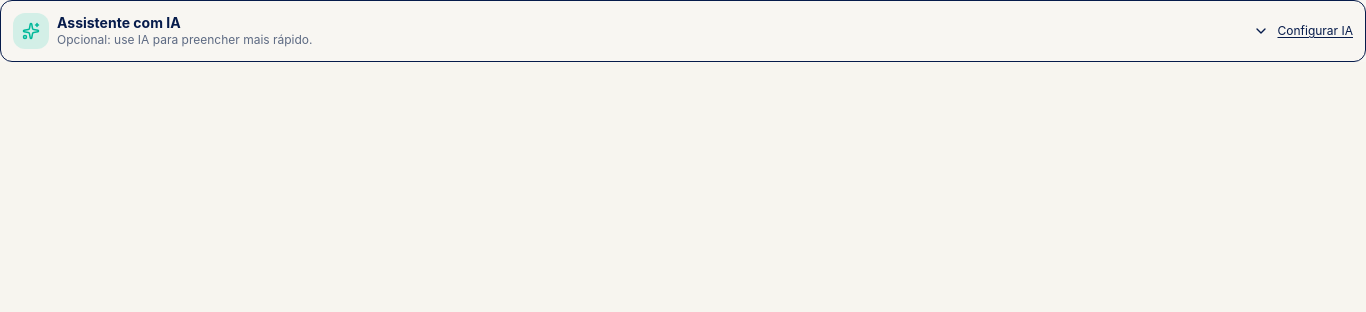
assistant is collapsed by default and expands on demand
What coordinates should you click on to do the following:
click the button
I would click on:
 (31, 31)
Its box is top-left (13, 13), bottom-right (1270, 49).
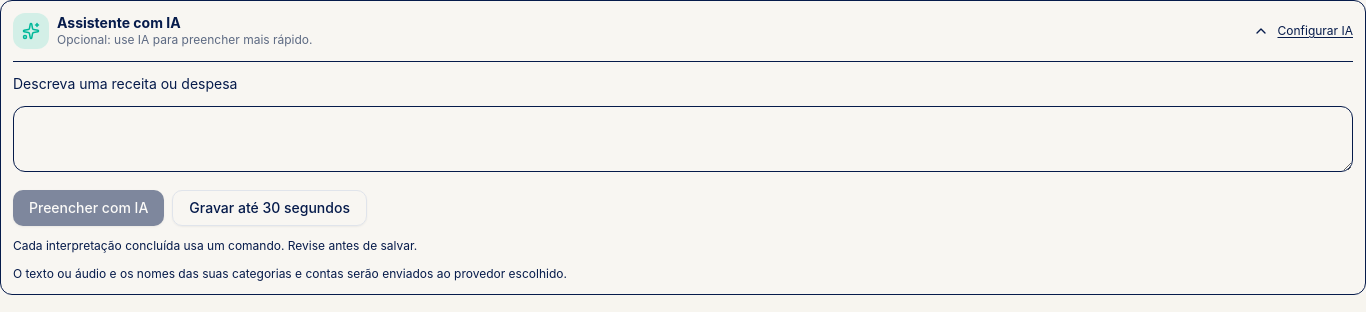
Result: the button that starts with "Assistente com IA" is expanded
Result: the text box with id "ai-command" is shown at top-left (13, 106), bottom-right (1353, 172)
What coordinates should you click on to do the following:
click the button that starts with "Assistente com IA"
I would click on:
 (31, 31)
Its box is top-left (13, 13), bottom-right (1270, 49).
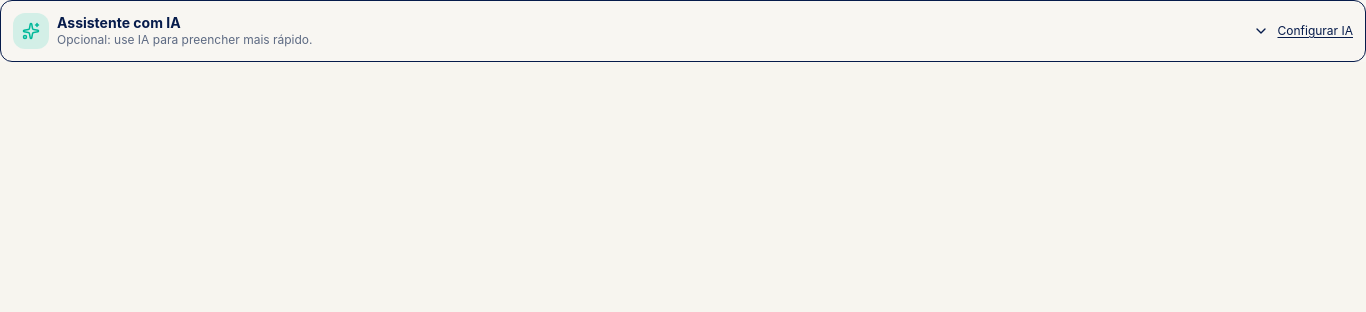
Result: the label with id "ai-command" is gone
